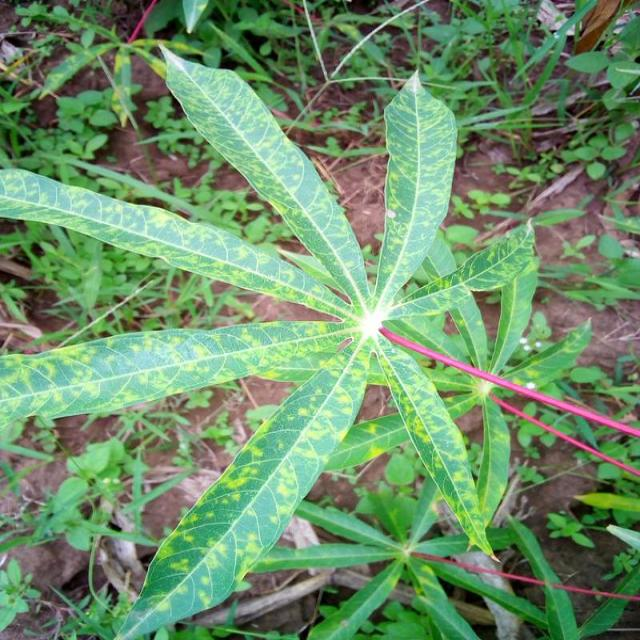cassava leaf: (1, 40, 637, 637), (113, 349, 367, 639), (156, 41, 370, 312), (372, 67, 458, 307)
